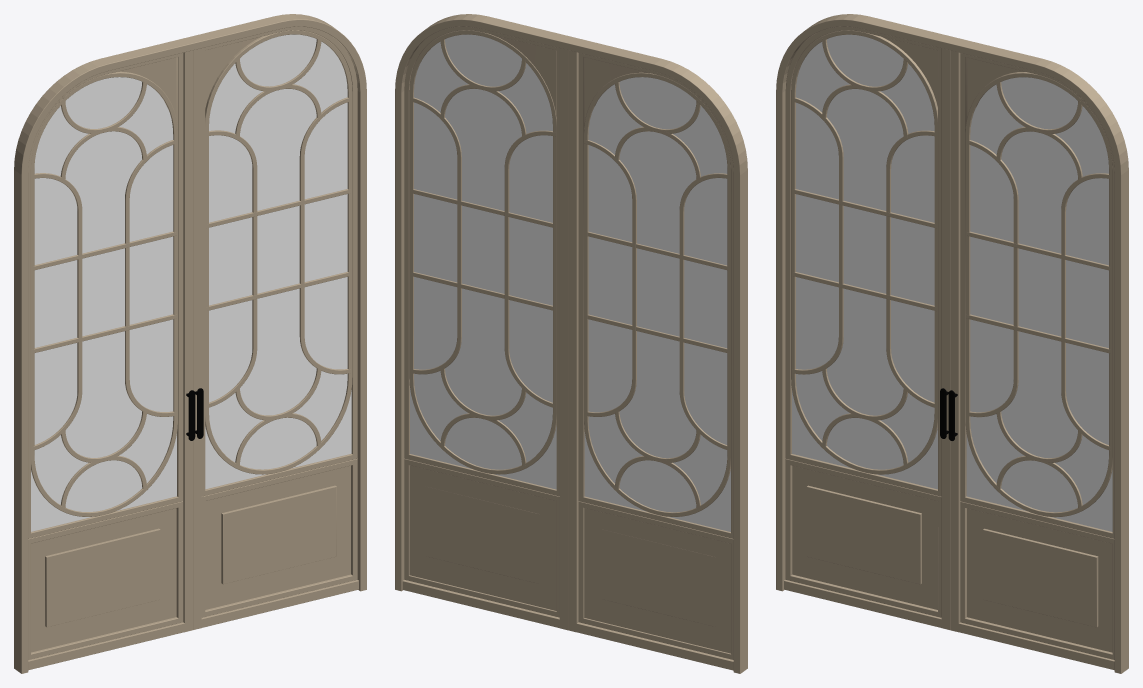
Rendered from doorarch.glb.
The picture shows the model from 3 angles, left to right: view 1: azimuth 30°, elevation 25°; view 2: azimuth 150°, elevation 25°; view 3: azimuth 330°, elevation 25°; orthographic projection.
Visible parts, largest first — view 1: Entrance door set289_28, Entrance door set289_31, Entrance door set289_38, Entrance door set289_23, Entrance door set289_22, Entrance door set289_21, Entrance door set289_20, Entrance door set289_29, Entrance door set289_32, Entrance door set289_26, Entrance door set289_27, Entrance door set289_37 (+5 smaller); view 2: Entrance door set289_28, Entrance door set289_31, Entrance door set289_38, Entrance door set289_23, Entrance door set289_22, Entrance door set289_32, Entrance door set289_29, Entrance door set289_26, Entrance door set289_21, Entrance door set289_20, Entrance door set289_27, Entrance door set289_37 (+5 smaller); view 3: Entrance door set289_31, Entrance door set289_28, Entrance door set289_38, Entrance door set289_23, Entrance door set289_22, Entrance door set289_21, Entrance door set289_20, Entrance door set289_29, Entrance door set289_32, Entrance door set289_27, Entrance door set289_26, Entrance door set289_35 (+5 smaller).
Boxes of the visible parts, x1=… form: Entrance door set289_28: x1=31, y1=77, x2=176, y2=531; Entrance door set289_31: x1=205, y1=34, x2=351, y2=489; Entrance door set289_38: x1=14, y1=14, x2=366, y2=673; Entrance door set289_23: x1=205, y1=30, x2=352, y2=474; Entrance door set289_22: x1=31, y1=71, x2=177, y2=516; Entrance door set289_21: x1=221, y1=485, x2=336, y2=584; Entrance door set289_20: x1=45, y1=528, x2=160, y2=627; Entrance door set289_29: x1=31, y1=508, x2=176, y2=652; Entrance door set289_32: x1=205, y1=465, x2=350, y2=609; Entrance door set289_26: x1=28, y1=50, x2=193, y2=670; Entrance door set289_27: x1=193, y1=48, x2=358, y2=629; Entrance door set289_37: x1=201, y1=26, x2=357, y2=496; Entrance door set289_28: x1=584, y1=77, x2=730, y2=531; Entrance door set289_31: x1=410, y1=34, x2=556, y2=489; Entrance door set289_38: x1=395, y1=14, x2=747, y2=673; Entrance door set289_23: x1=409, y1=30, x2=556, y2=474; Entrance door set289_22: x1=584, y1=72, x2=730, y2=516; Entrance door set289_32: x1=409, y1=465, x2=556, y2=610; Entrance door set289_29: x1=584, y1=508, x2=730, y2=653; Entrance door set289_26: x1=568, y1=50, x2=733, y2=670; Entrance door set289_21: x1=425, y1=486, x2=539, y2=583; Entrance door set289_20: x1=602, y1=529, x2=715, y2=626; Entrance door set289_27: x1=402, y1=48, x2=568, y2=630; Entrance door set289_37: x1=404, y1=26, x2=559, y2=496; Entrance door set289_31: x1=966, y1=77, x2=1112, y2=531; Entrance door set289_28: x1=792, y1=34, x2=937, y2=489; Entrance door set289_38: x1=776, y1=14, x2=1128, y2=673; Entrance door set289_23: x1=965, y1=72, x2=1112, y2=517; Entrance door set289_22: x1=791, y1=30, x2=937, y2=474; Entrance door set289_21: x1=983, y1=528, x2=1098, y2=627; Entrance door set289_20: x1=806, y1=485, x2=921, y2=584; Entrance door set289_29: x1=792, y1=465, x2=938, y2=609; Entrance door set289_32: x1=967, y1=508, x2=1112, y2=652; Entrance door set289_27: x1=950, y1=50, x2=1114, y2=670; Entrance door set289_26: x1=784, y1=48, x2=950, y2=629; Entrance door set289_35: x1=785, y1=26, x2=941, y2=496.
Bounding box in the file's own units: 1.68 × 2.73 × 0.0799.
